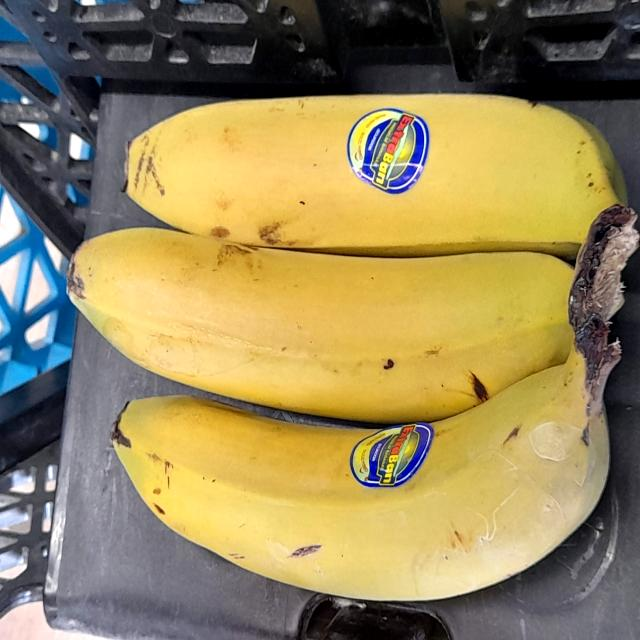banana: (60, 94, 640, 598), (108, 32, 638, 272)
